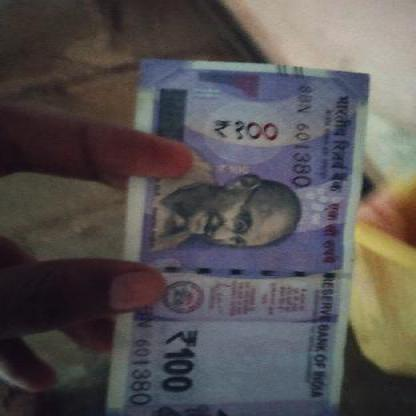New100Front: (121, 72, 352, 415)
